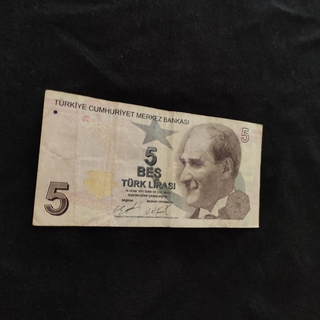5TLFront: (31, 89, 263, 229)
